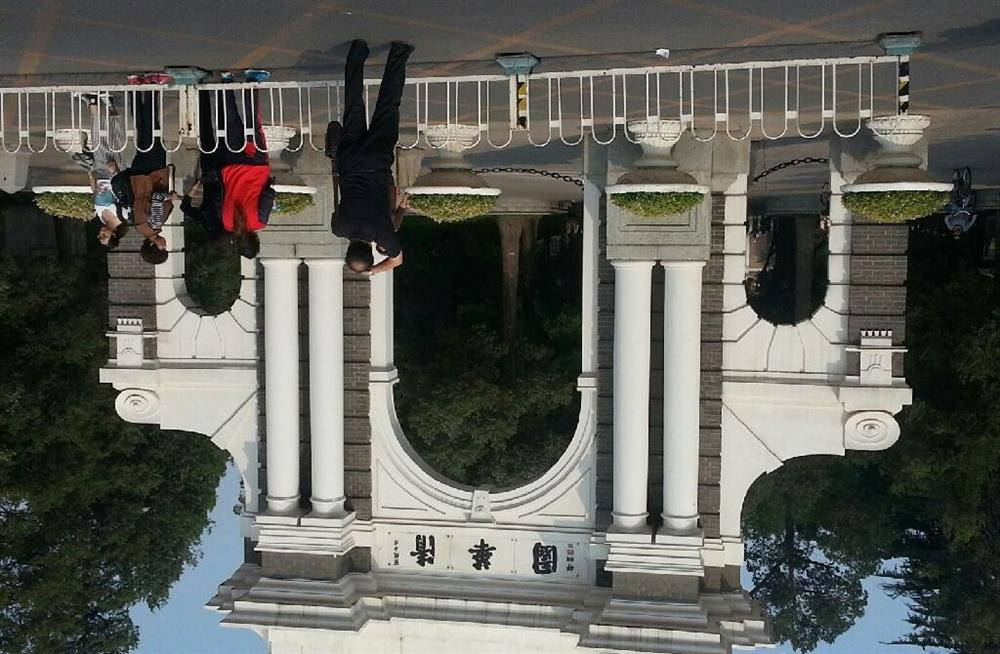Tsinghua_old_gate: (100, 196, 919, 651)
